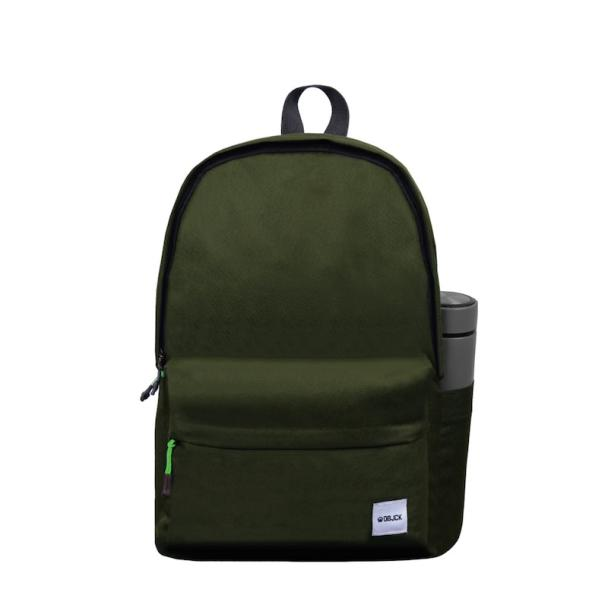Tas: (150, 134, 470, 561)
